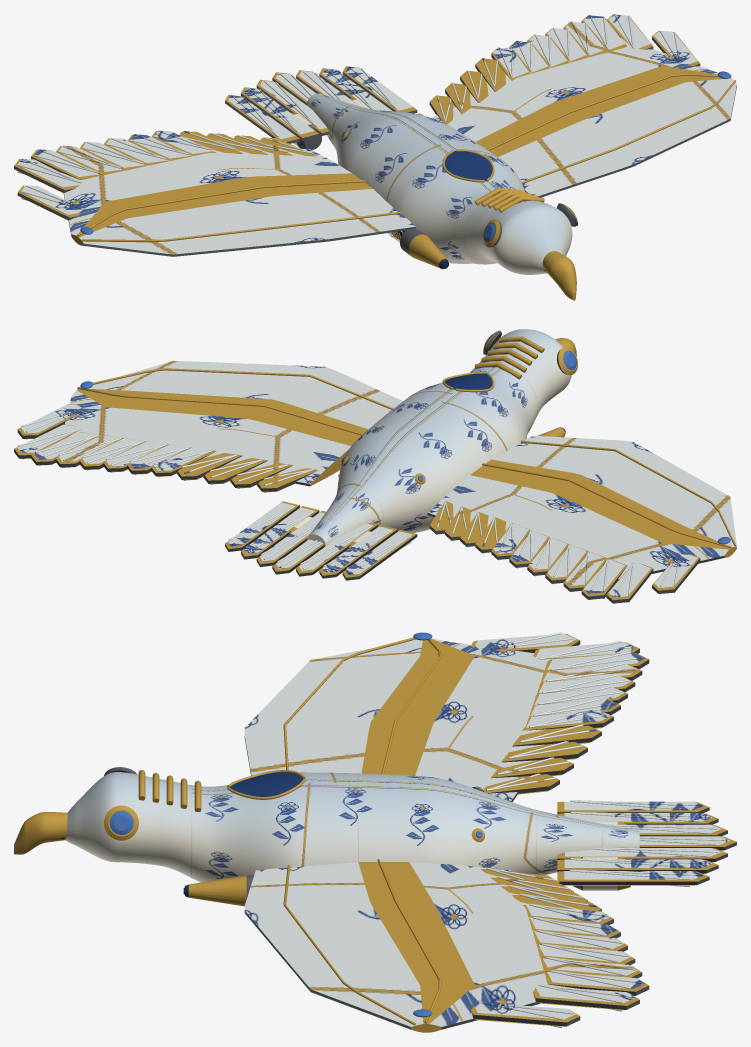
The picture shows the model from 3 angles, top to bottom: view 1: azimuth 30°, elevation 25°; view 2: azimuth 150°, elevation 25°; view 3: azimuth 270°, elevation 25°; orthographic projection. The views are drawn at different scales.
Parts seen in each view (by area): view 1: golden_eagle_hull; view 2: golden_eagle_hull; view 3: golden_eagle_hull.
Part boxes in pixels (x1,y1,x2,y2): golden_eagle_hull: (14,14,736,300); golden_eagle_hull: (14,329,736,603); golden_eagle_hull: (14,632,736,1032).
Size of the model in its own units: 264 by 41.18 by 208.
1 material, 1 textured.
